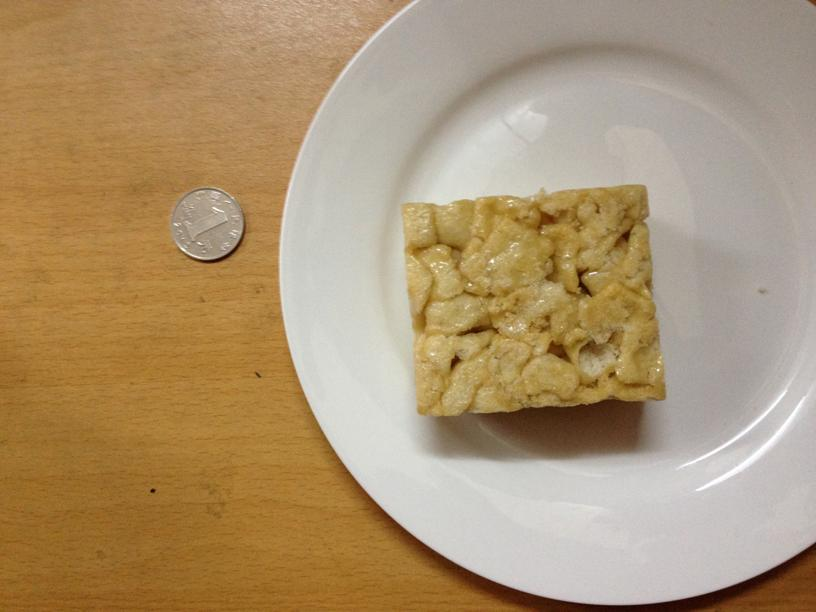coin: (170, 184, 245, 261)
sachima: (397, 187, 668, 414)
